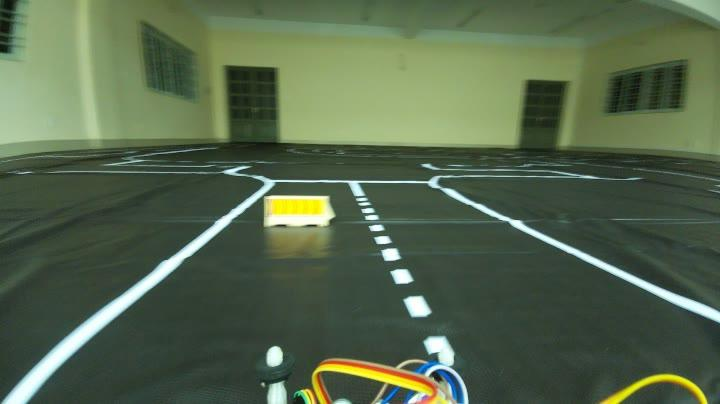roadblock: (254, 196, 338, 227)
